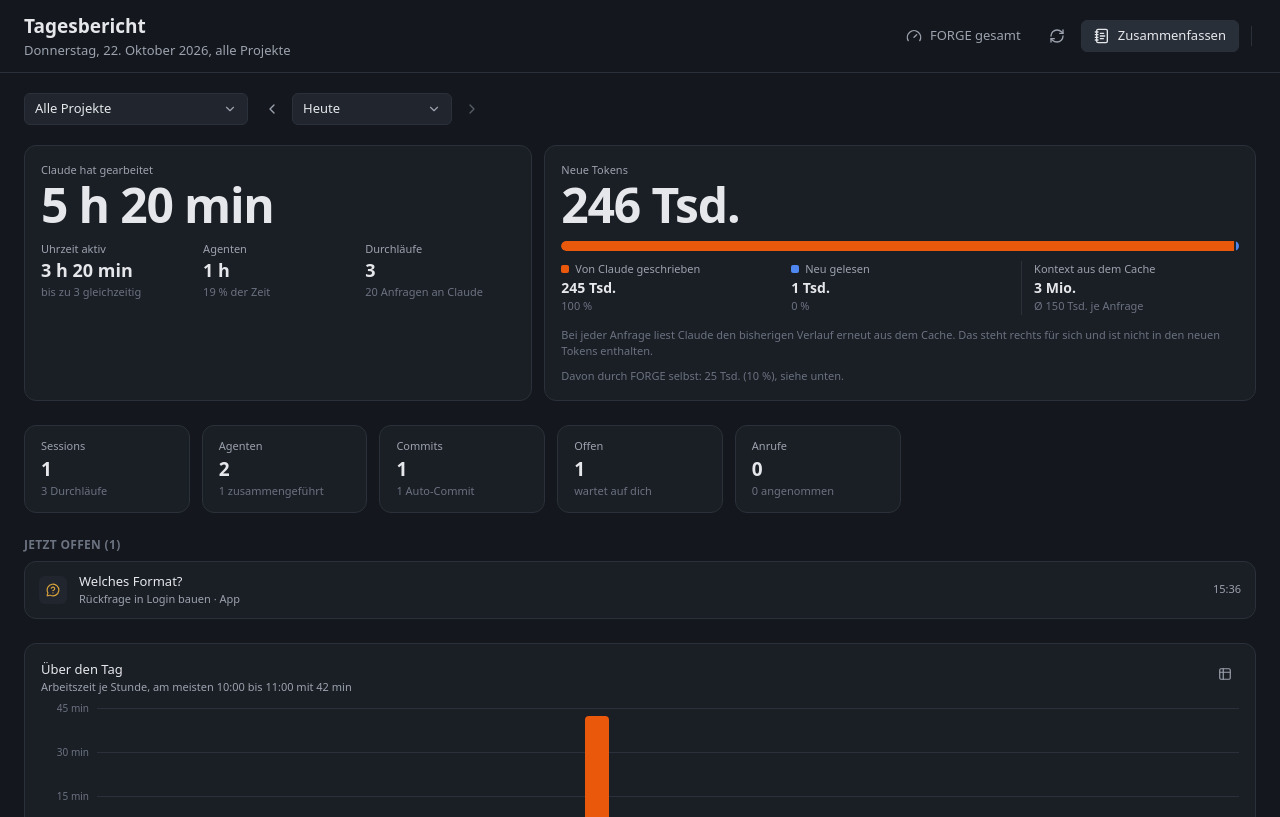
daily report › goes back a day and says when nothing happened
Step 1. Click the button named "Vorheriger Tag" → [272, 109], box [256,93,288,125]
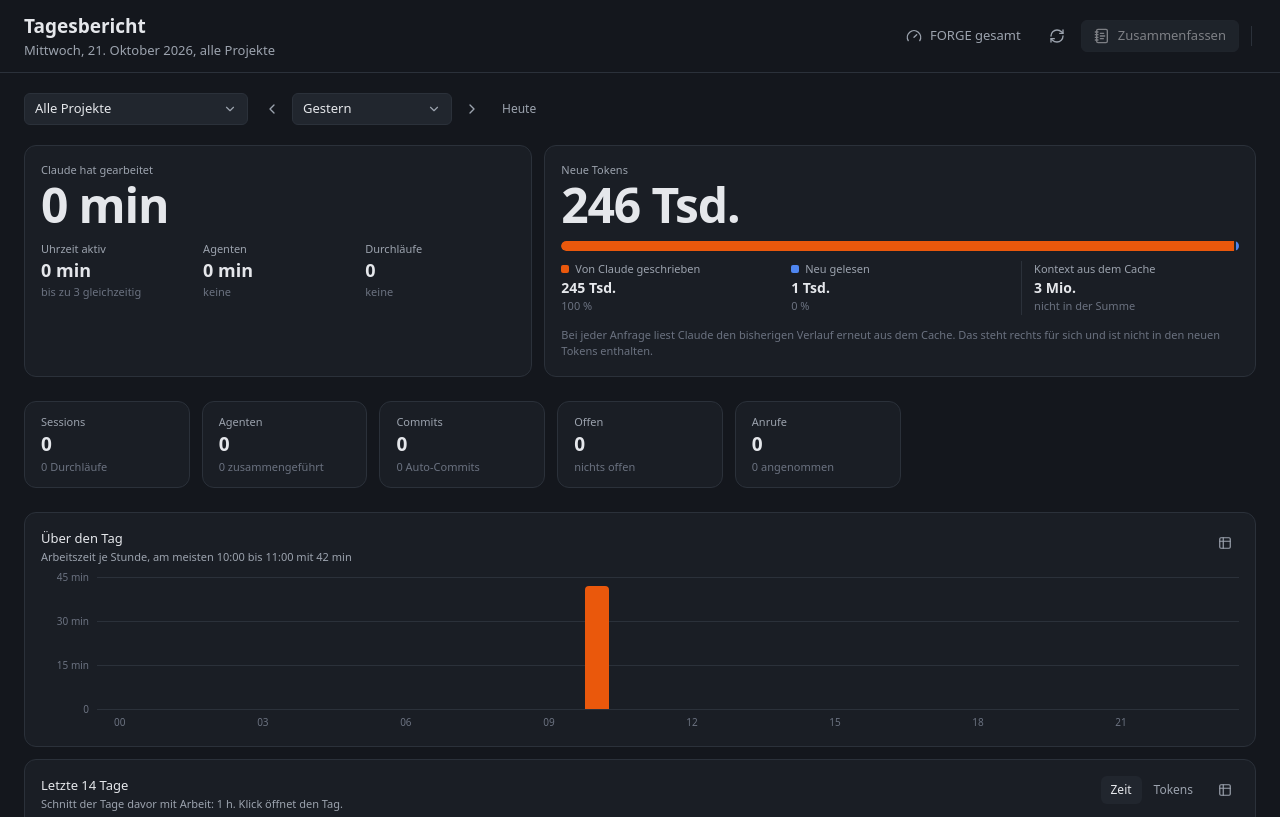
Expected: the button "Zusammenfassen" is disabled, [1081,20,1239,52]
